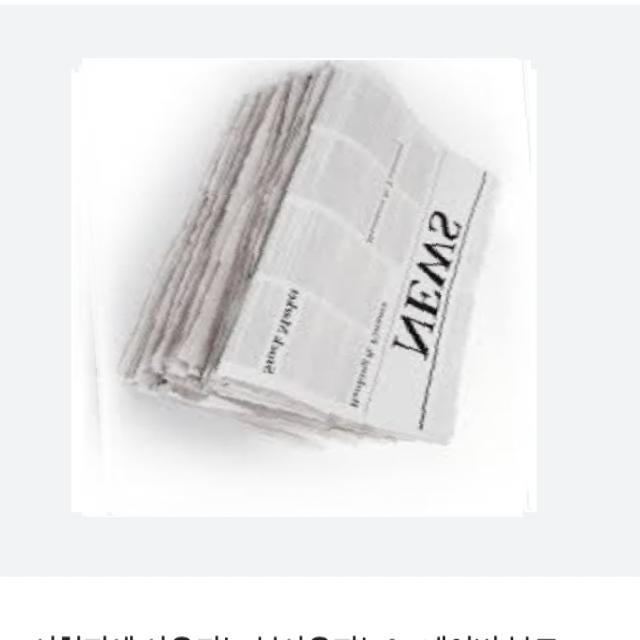biodegradable: (76, 60, 531, 516)
